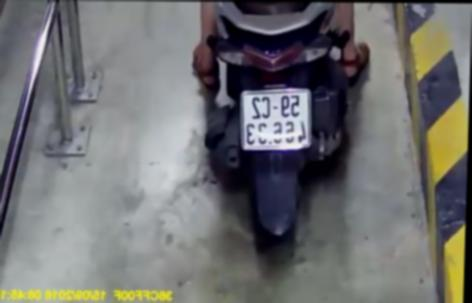License_Plate: (232, 84, 318, 157)
